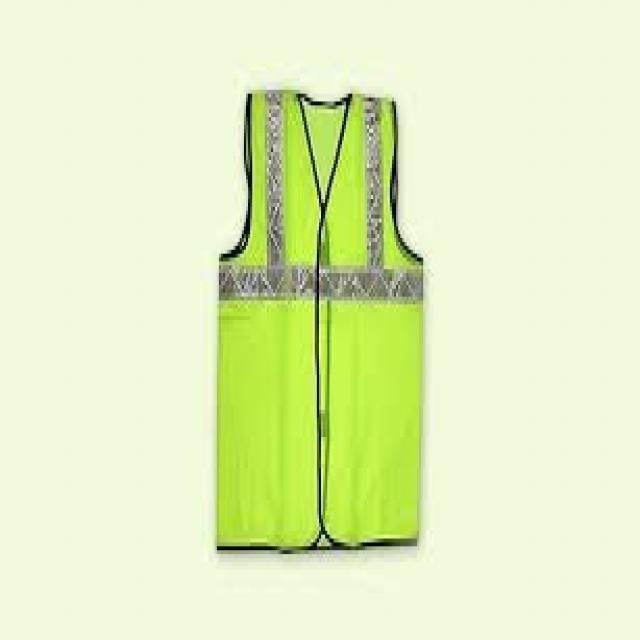reflective_jacket: (191, 74, 448, 558)
